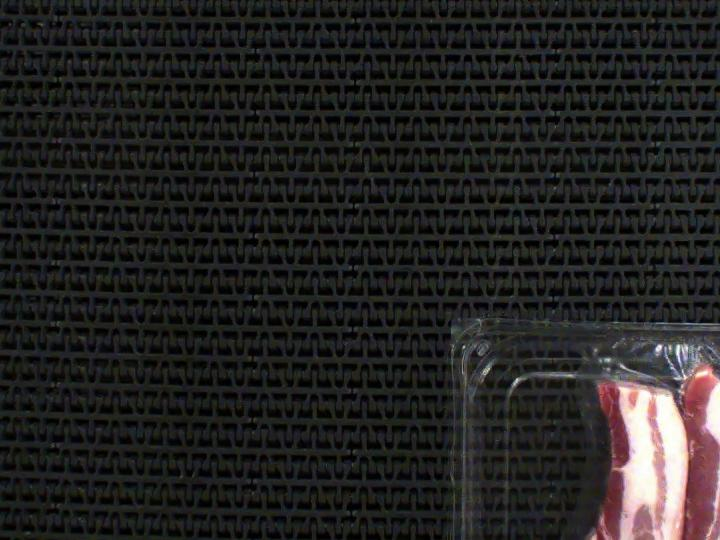unsealed: (560, 325, 720, 540)
